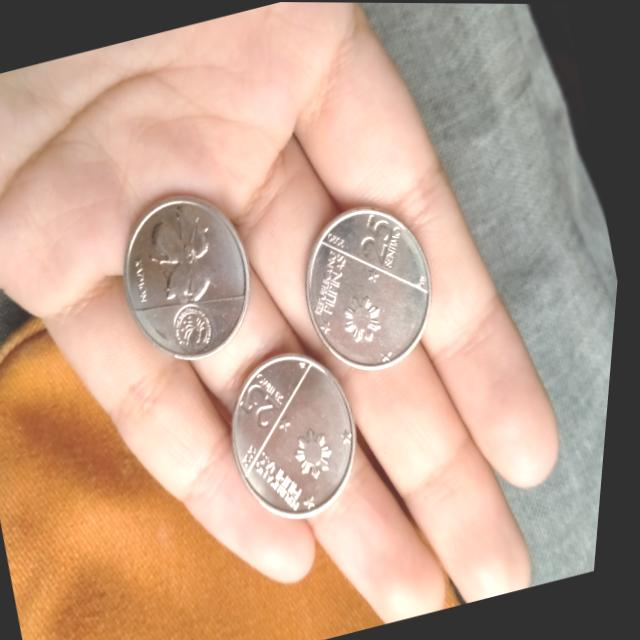25Cent_New_Back: (123, 192, 248, 320)
25Cent_New_Front: (345, 200, 424, 282), (235, 369, 304, 439)
